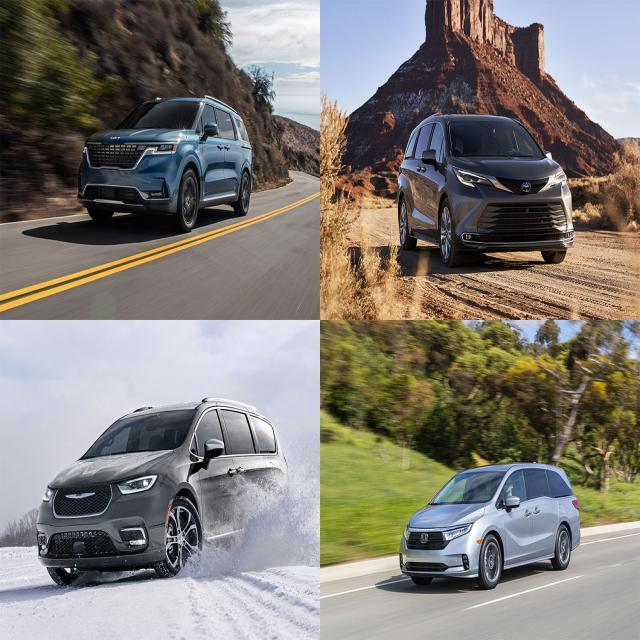minivan: (35, 396, 290, 586), (396, 111, 575, 268), (76, 94, 252, 232), (398, 460, 581, 590)
